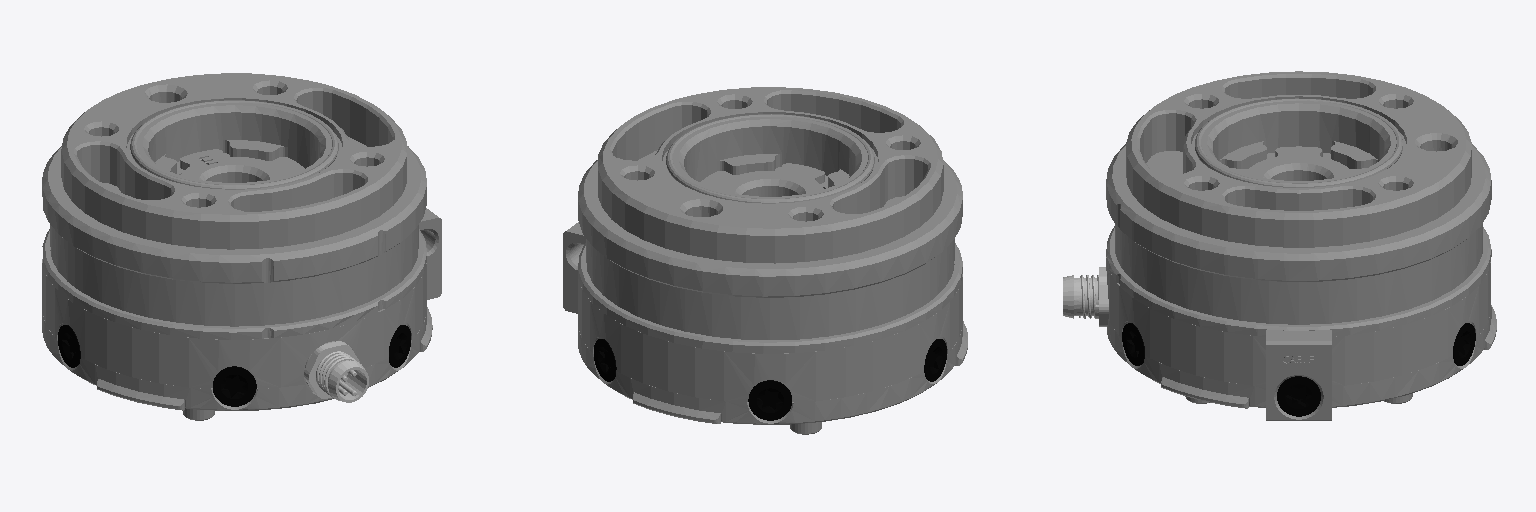
The picture shows the model from 3 angles: view 1: azimuth 30°, elevation 25°; view 2: azimuth 150°, elevation 25°; view 3: azimuth 270°, elevation 25°; orthographic projection.
Parts seen in each view (by area): view 1: base_HEX-E_v2_with_Adapter_A2_L2G, connector_HEX-E_v2_with_Adapter_A2_L2G.002, screws_HEX-E_v2_with_Adapter_A2_L2G.001; view 2: base_HEX-E_v2_with_Adapter_A2_L2G, screws_HEX-E_v2_with_Adapter_A2_L2G.001; view 3: base_HEX-E_v2_with_Adapter_A2_L2G, screws_HEX-E_v2_with_Adapter_A2_L2G.001, connector_HEX-E_v2_with_Adapter_A2_L2G.002.
Part boxes in pixels (left/top/right/bottom): base_HEX-E_v2_with_Adapter_A2_L2G: left=42, top=73, right=441, bottom=420; connector_HEX-E_v2_with_Adapter_A2_L2G.002: left=304, top=341, right=368, bottom=402; screws_HEX-E_v2_with_Adapter_A2_L2G.001: left=58, top=325, right=410, bottom=406; base_HEX-E_v2_with_Adapter_A2_L2G: left=563, top=87, right=967, bottom=434; screws_HEX-E_v2_with_Adapter_A2_L2G.001: left=594, top=339, right=946, bottom=420; base_HEX-E_v2_with_Adapter_A2_L2G: left=1106, top=71, right=1496, bottom=420; screws_HEX-E_v2_with_Adapter_A2_L2G.001: left=1122, top=323, right=1475, bottom=416; connector_HEX-E_v2_with_Adapter_A2_L2G.002: left=1063, top=267, right=1108, bottom=326.
Bounding box in the file's own units: 0.075 × 0.0437 × 0.0789.